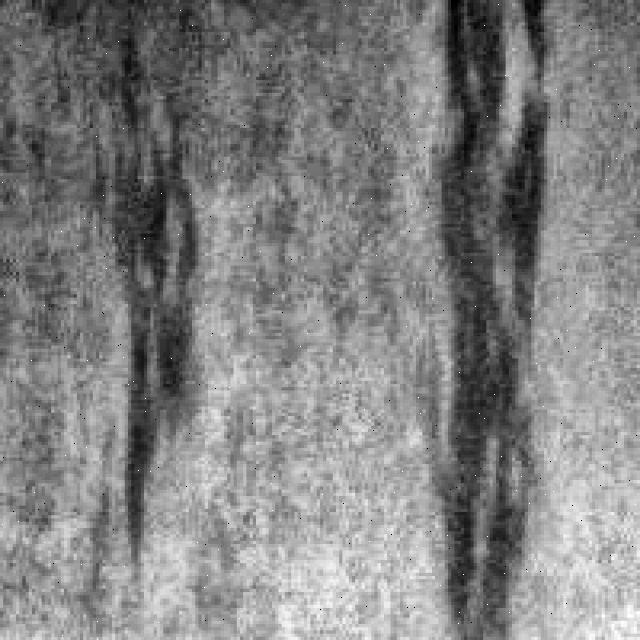Patches: (413, 0, 557, 634), (76, 16, 212, 611)
